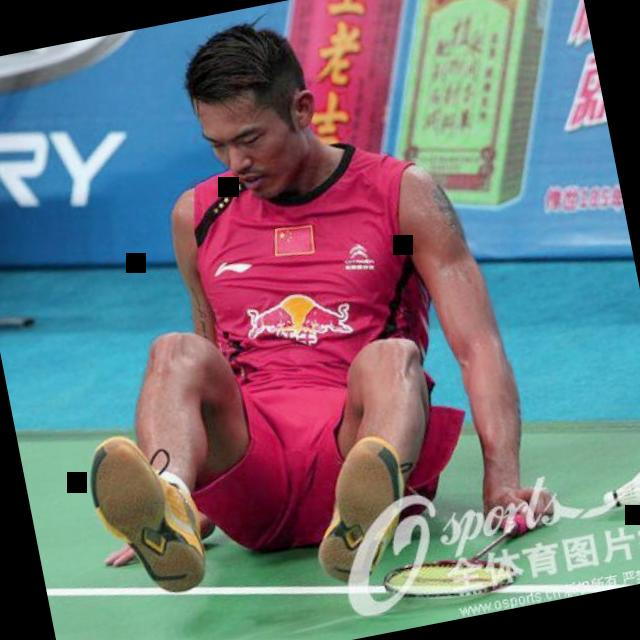Fall-Detected: (10, 0, 608, 637)
